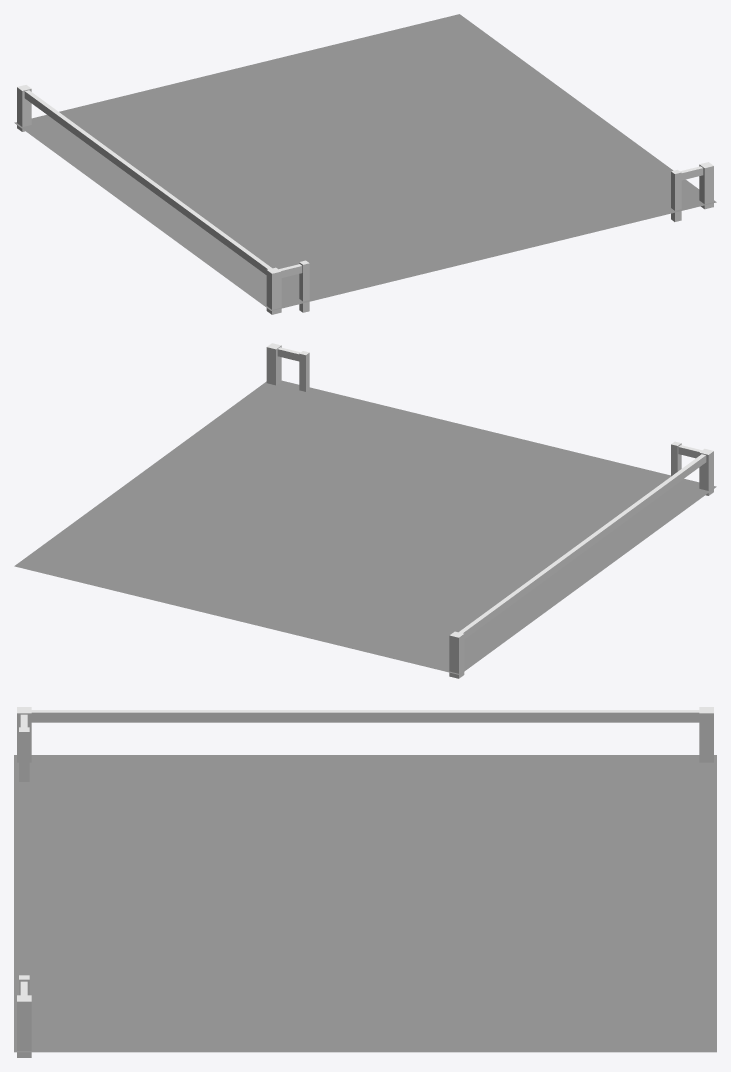
File: tile_for_home_1x1_019.glb
3 views of the same model, one above another, from view 1: azimuth 30°, elevation 25°; view 2: azimuth 150°, elevation 25°; view 3: azimuth 270°, elevation 25° (orthographic). The views are drawn at different scales.
Visible parts, largest first — view 1: tile_for_home_1x1_019; view 2: tile_for_home_1x1_019; view 3: tile_for_home_1x1_019.
Part boxes in pixels (x1=…): tile_for_home_1x1_019: x1=14, y1=14, x2=716, y2=314; tile_for_home_1x1_019: x1=14, y1=343, x2=716, y2=678; tile_for_home_1x1_019: x1=14, y1=707, x2=716, y2=1057.
Bounding box in the file's own units: 8 × 0.8235 × 8.
Materials: 1 (1 with a texture image).
